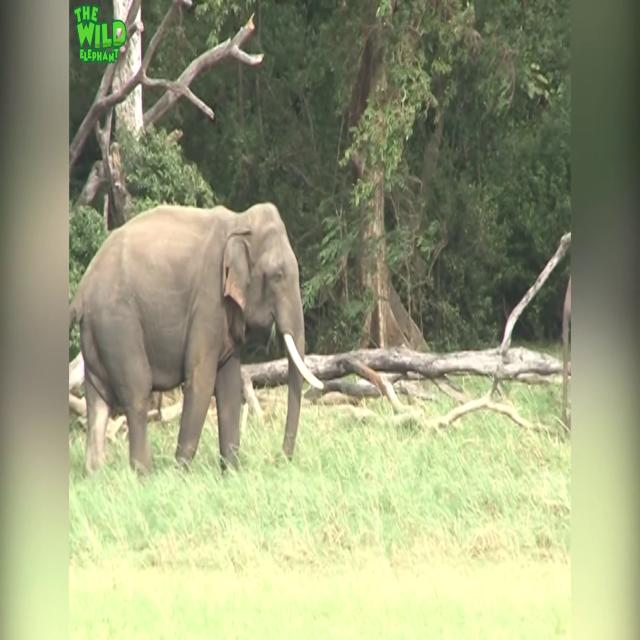Elephant: (69, 200, 324, 478)
